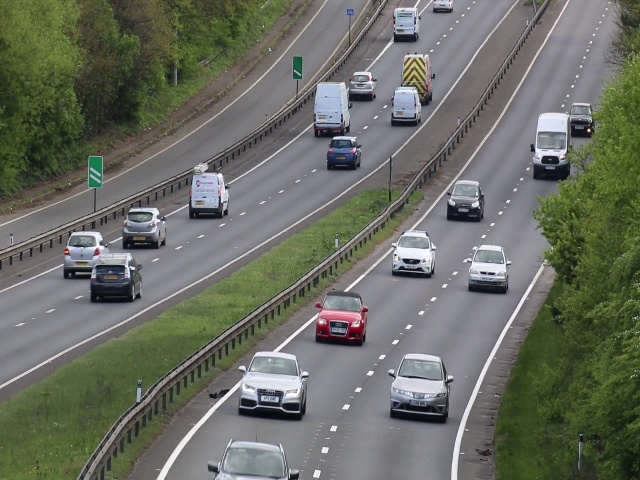car: (235, 351, 307, 417), (388, 355, 453, 421), (211, 441, 292, 480), (313, 291, 368, 346), (89, 253, 141, 305), (390, 229, 436, 277), (313, 83, 352, 136), (468, 245, 510, 292), (190, 171, 230, 220), (122, 208, 168, 250), (533, 129, 568, 183), (401, 52, 434, 103), (386, 88, 423, 133), (446, 181, 483, 224), (64, 230, 93, 281), (328, 135, 361, 171), (392, 1, 419, 43), (347, 69, 379, 99), (571, 108, 591, 135)
